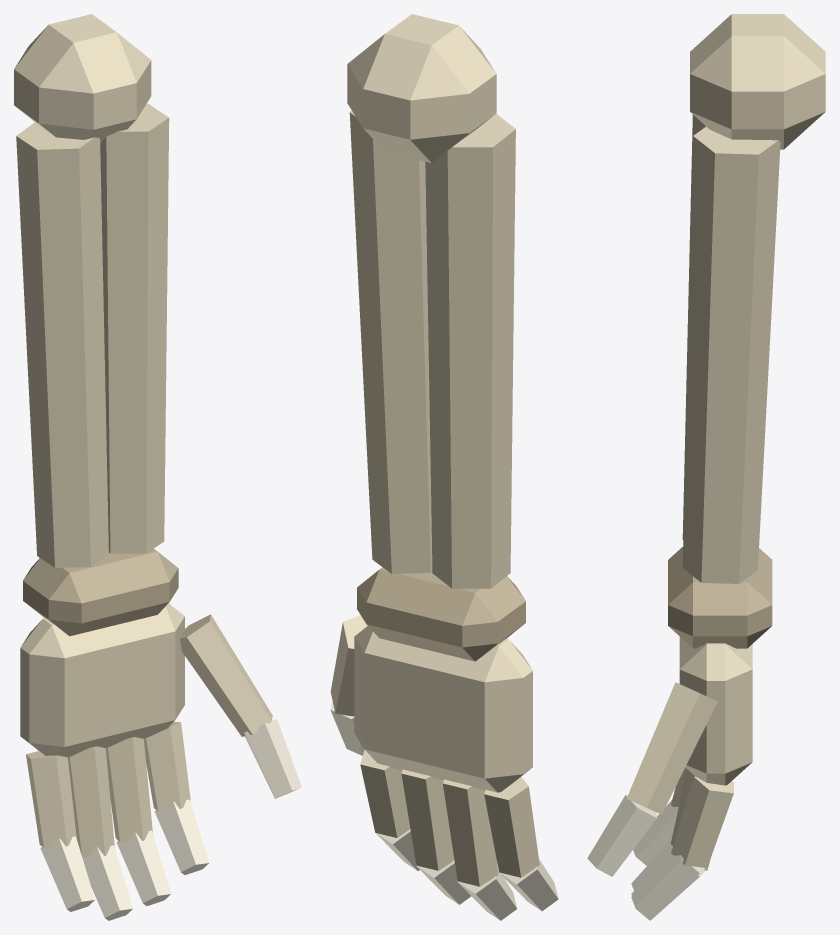
Rendered from braccio_sotto.glb.
The picture shows the model from 3 angles, left to right: view 1: azimuth 30°, elevation 25°; view 2: azimuth 150°, elevation 25°; view 3: azimuth 270°, elevation 25°; orthographic projection. The views are drawn at different scales.
Visible parts, largest first — view 1: braccio_sotto2; view 2: braccio_sotto2; view 3: braccio_sotto2.
Boxes of the visible parts, bbox=[...] form: braccio_sotto2: bbox=[14, 14, 301, 920]; braccio_sotto2: bbox=[330, 14, 558, 920]; braccio_sotto2: bbox=[587, 14, 825, 920].
Bounding box in the file's own units: 0.1272 × 0.4702 × 0.1142.
